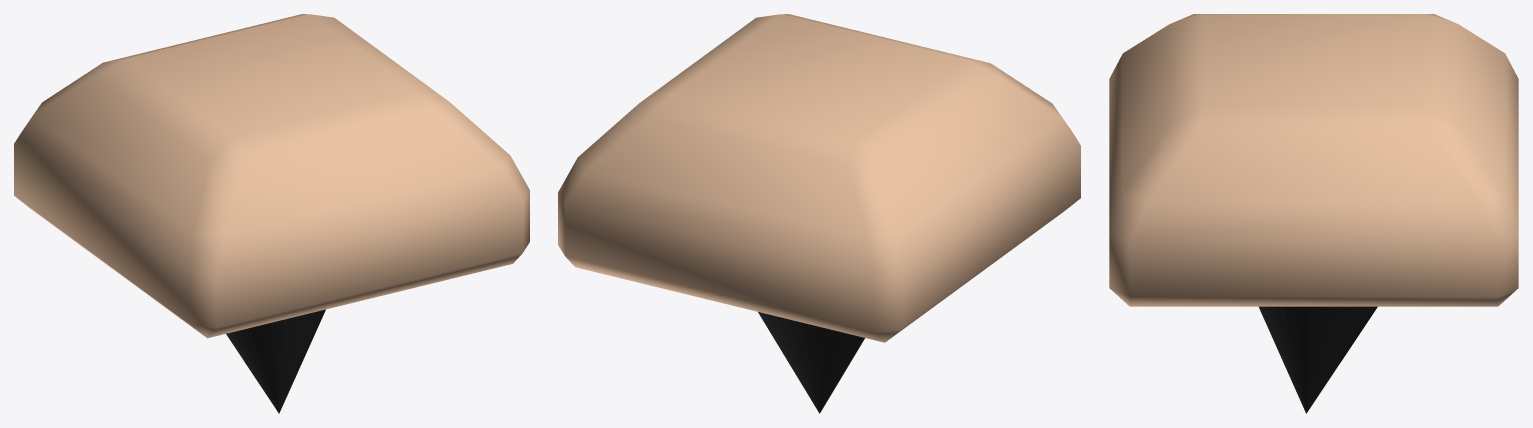
File: debris.fbx
The picture shows the model from 3 angles, left to right: view 1: azimuth 30°, elevation 25°; view 2: azimuth 150°, elevation 25°; view 3: azimuth 270°, elevation 25°; orthographic projection. The views are drawn at different scales.
Parts seen in each view (by area): view 1: Cube, Cone; view 2: Cube, Cone; view 3: Cube, Cone.
Part boxes in pixels (x1,y1,x2,y2): Cube: (14, 14, 529, 338); Cone: (226, 309, 325, 413); Cube: (558, 14, 1080, 342); Cone: (758, 312, 864, 413); Cube: (1109, 14, 1518, 306); Cone: (1259, 306, 1377, 413).
Bounding box in the file's own units: 200 × 189 × 200.
